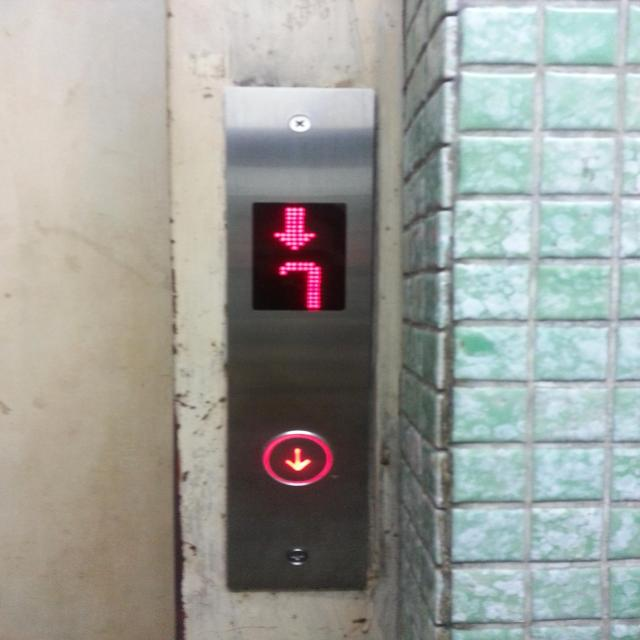down: (260, 429, 334, 487)
led: (249, 198, 348, 316)
